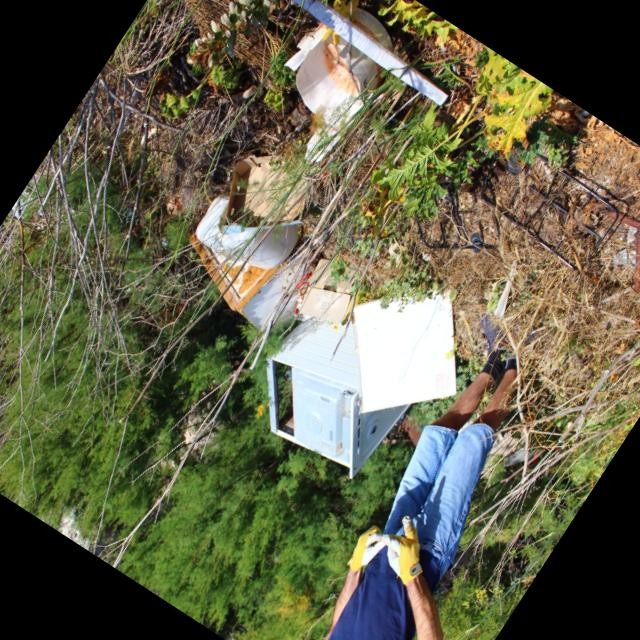Carton: (293, 0, 447, 107), (222, 153, 313, 233), (290, 254, 362, 323)
Other litter: (262, 288, 457, 481), (473, 127, 622, 273), (186, 230, 317, 337), (407, 173, 503, 252), (345, 3, 395, 50)
Other plastic: (281, 23, 385, 163), (193, 196, 300, 270)
Paper: (164, 198, 180, 219)
